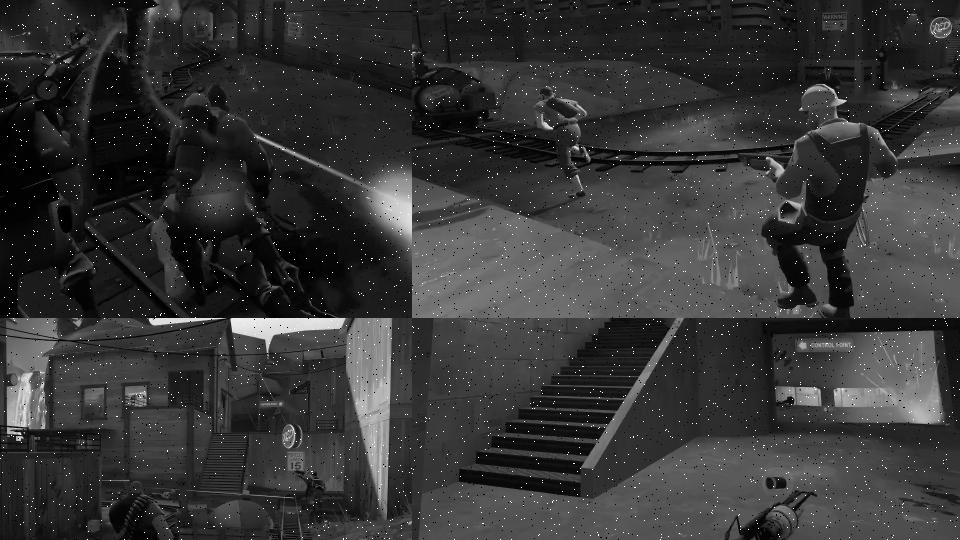Enemy: (164, 81, 347, 318), (738, 83, 898, 318), (0, 76, 131, 318), (534, 85, 592, 199), (108, 481, 195, 540), (66, 22, 95, 50), (294, 470, 317, 501), (817, 65, 843, 92), (311, 477, 325, 513)
